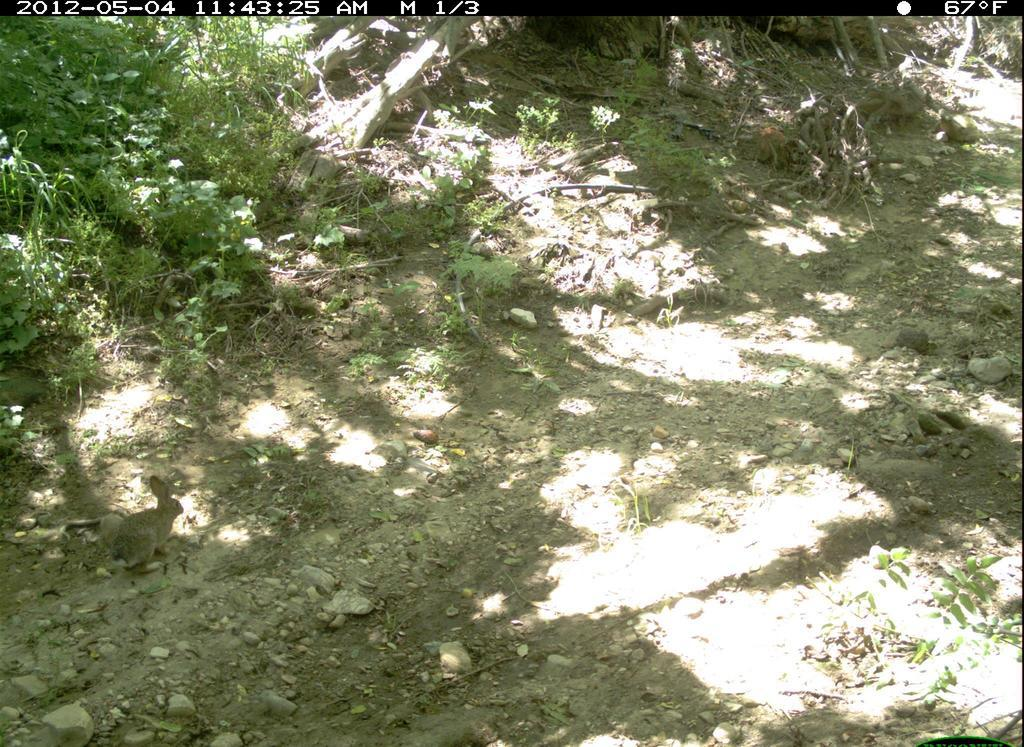rabbit: (97, 475, 196, 579)
